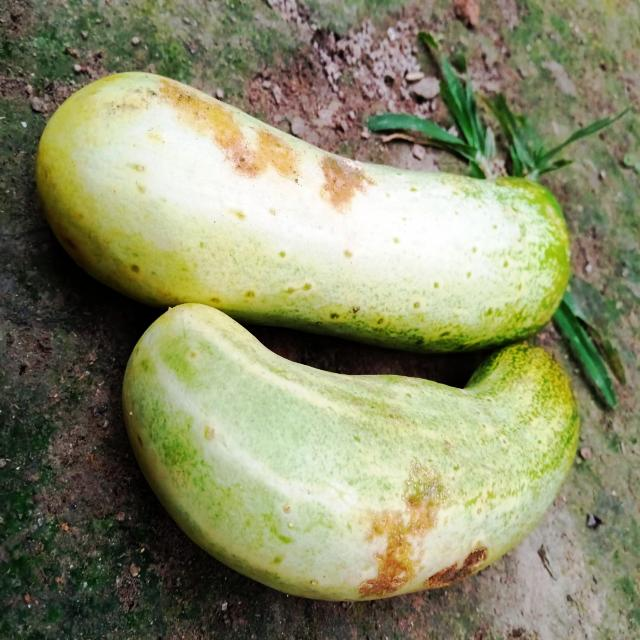Belly-Rot: (153, 76, 376, 218), (352, 452, 494, 605)
